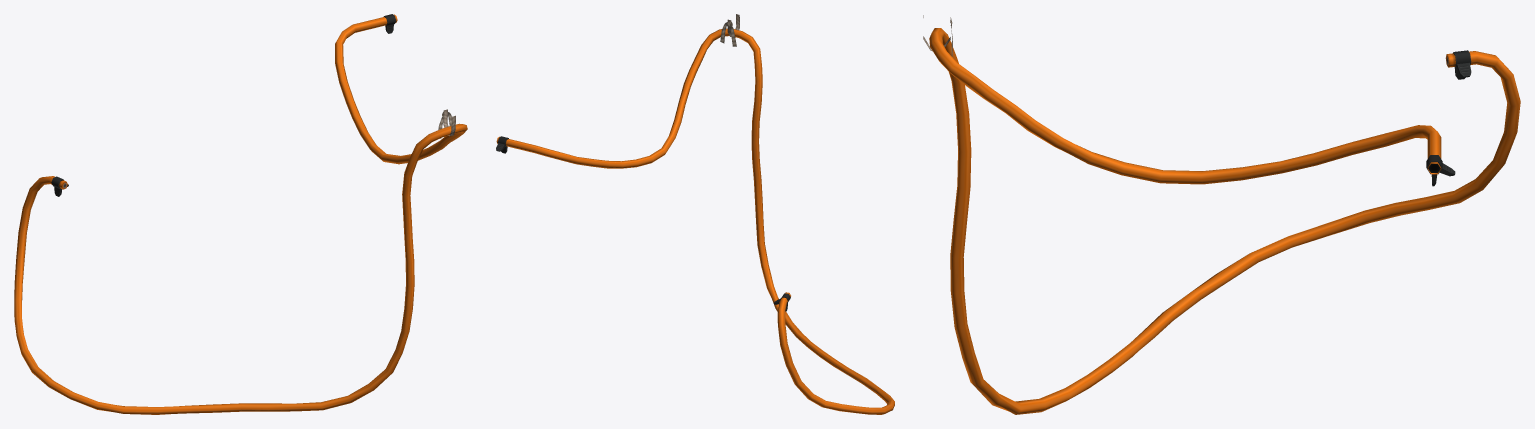
Rendered from jsf_GasRange_05b.fbx.
3 views of the same model, side by side, from view 1: azimuth 30°, elevation 25°; view 2: azimuth 150°, elevation 25°; view 3: azimuth 270°, elevation 25° (orthographic). The views are drawn at different scales.
Parts seen in each view (by area): view 1: GasHose; view 2: GasHose; view 3: GasHose.
Boxes of the visible parts, <box> form: GasHose: <box>14,14,467,414</box>; GasHose: <box>496,14,894,414</box>; GasHose: <box>923,15,1520,414</box>.
Size of the model in its own units: 93.74 by 68.15 by 77.68.
